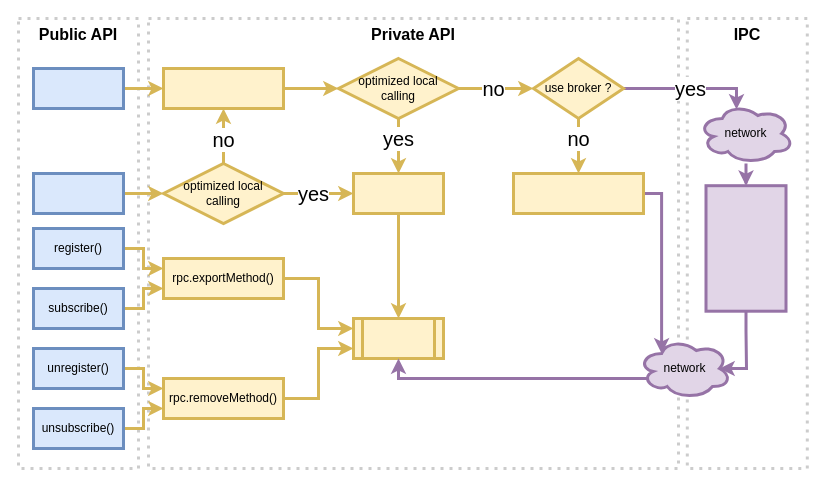
Image size: 826x487. Some labels were removed from this diagram. The shapes that lost their labels are listed below. From the top down, each one's centre as x and y in pixels, then its label:
the point at 78,88: importMethod()
the point at 223,88: getMethod()
the point at 78,193: dispatch()
the point at 398,193: findMethod()
the point at 578,193: HTTP+ JSON RPC Moleculer TCP
the point at 745,248: Broker utRpc NATS Rabbit Kafka Redis
the point at 398,338: exported methods
